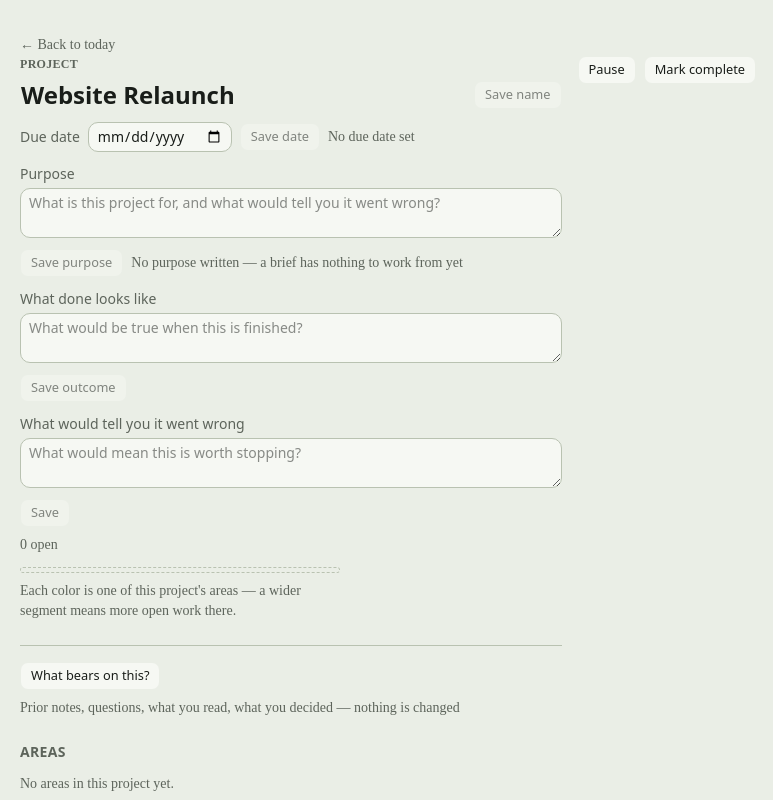
Test: ProjectRoute › shows prior material, loose ends and dated work when asked
Check: the field showing "Website Relaunch" is shown, box [16,76,466,114]
Click the button "What bears on this?" at coordinates (90, 676), box [20,662,160,690]
(page scrolled)
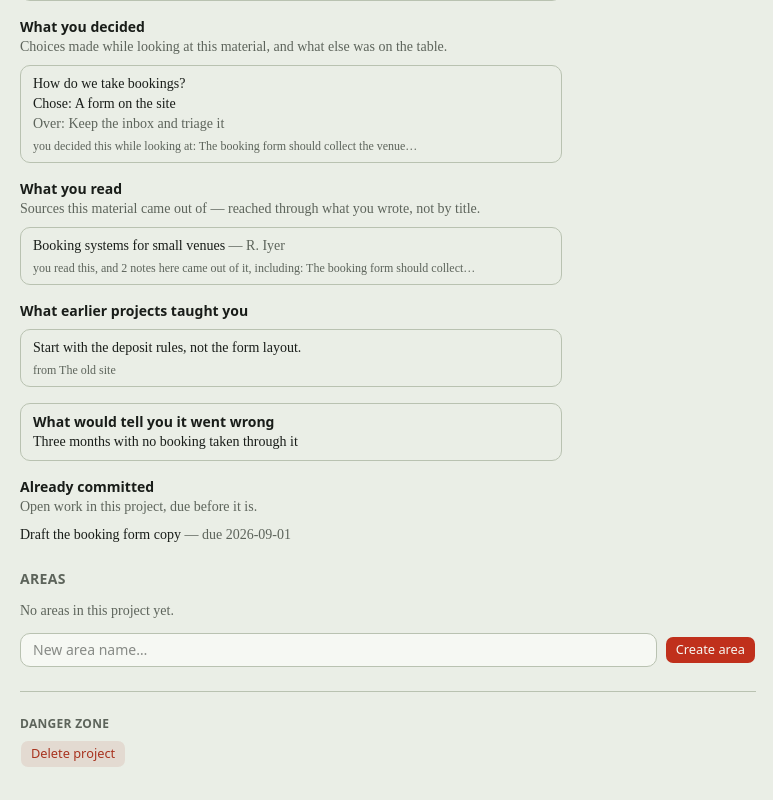
Check: the list item "Draft the booking form copy — due 2026-09-01" is shown, box [20,527,291,542]
